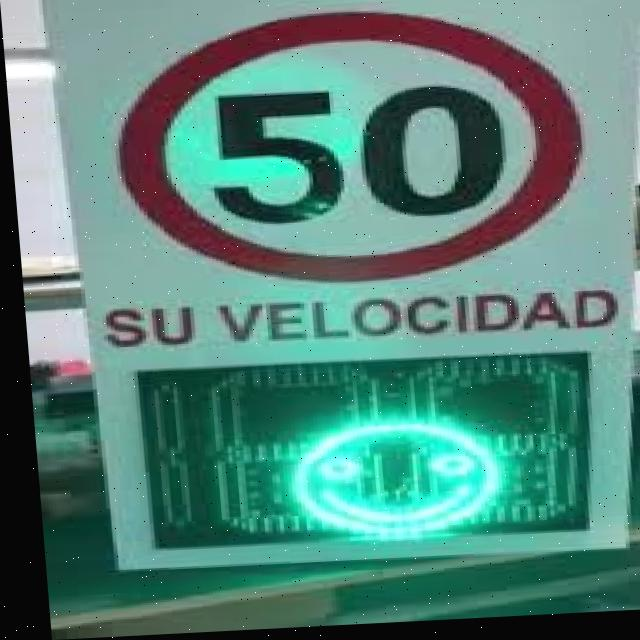Speed limit 50: (101, 3, 591, 295)
